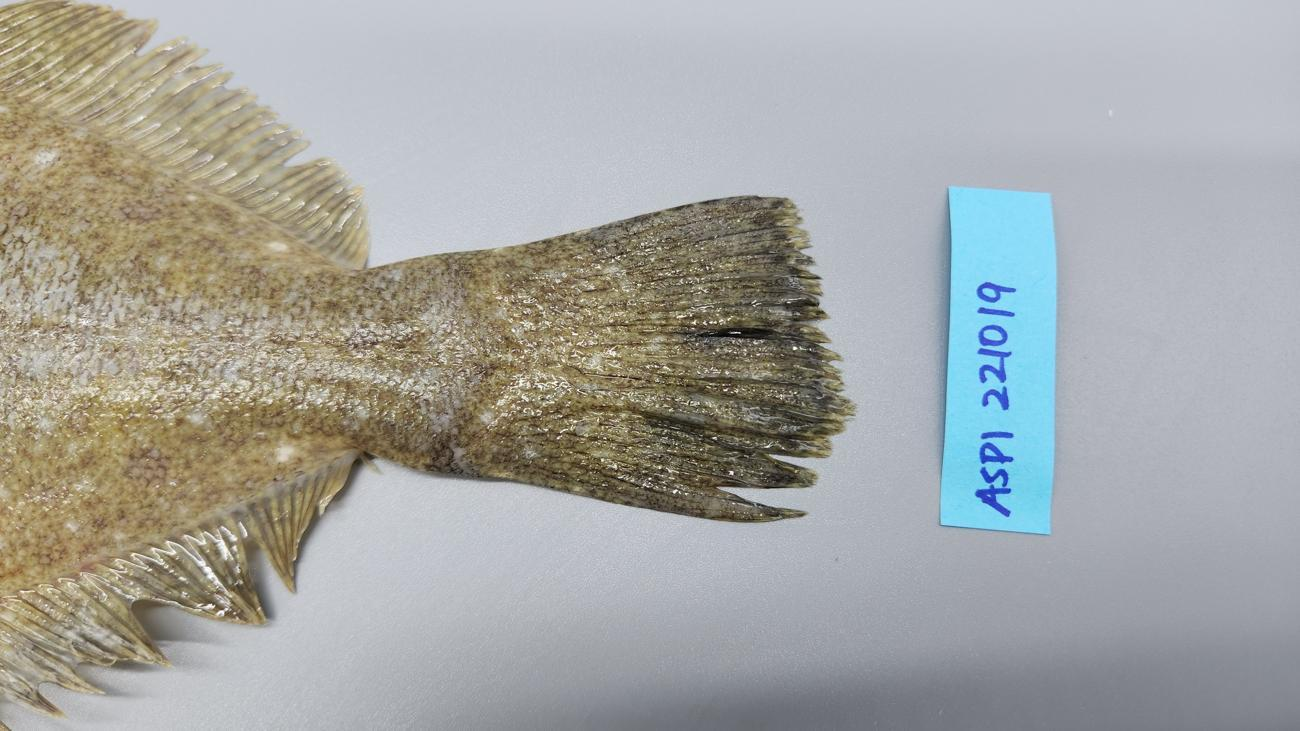SPFAH: (0, 544, 271, 664)
